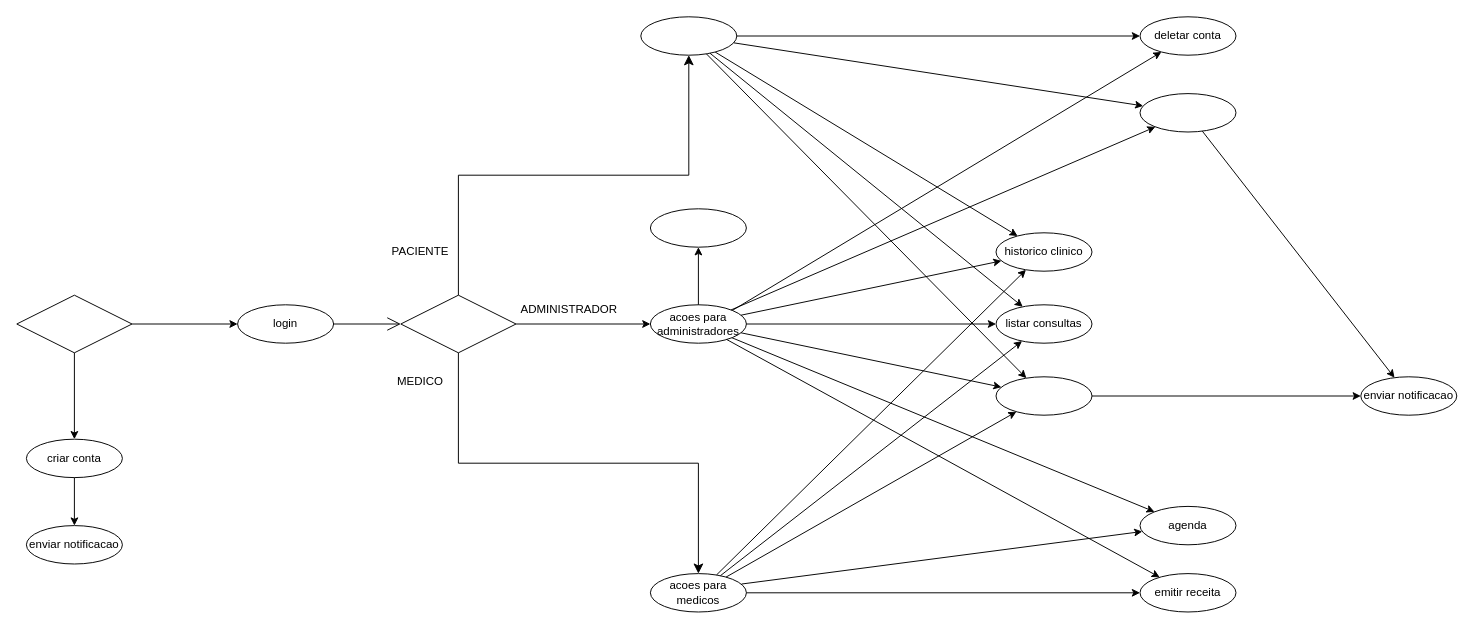
The diagram is 1474 pixels wide and 629 high, and some of its shapes have lost their labels. The centre of each missing label's shape, as x and y in pixels:
"acoes para pacientes" belongs at (x=688, y=35).
"agendar consulta" belongs at (x=1187, y=112).
"cancelar consulta" belongs at (x=1043, y=395).
"gerar relatorio" belongs at (x=697, y=227).
"rota" belongs at (x=74, y=323).
"verifica tipo conta" belongs at (x=458, y=323).
